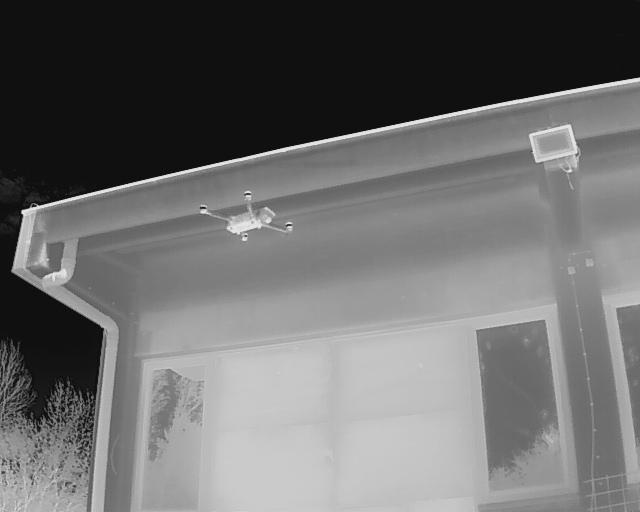drone: (189, 184, 296, 249)
